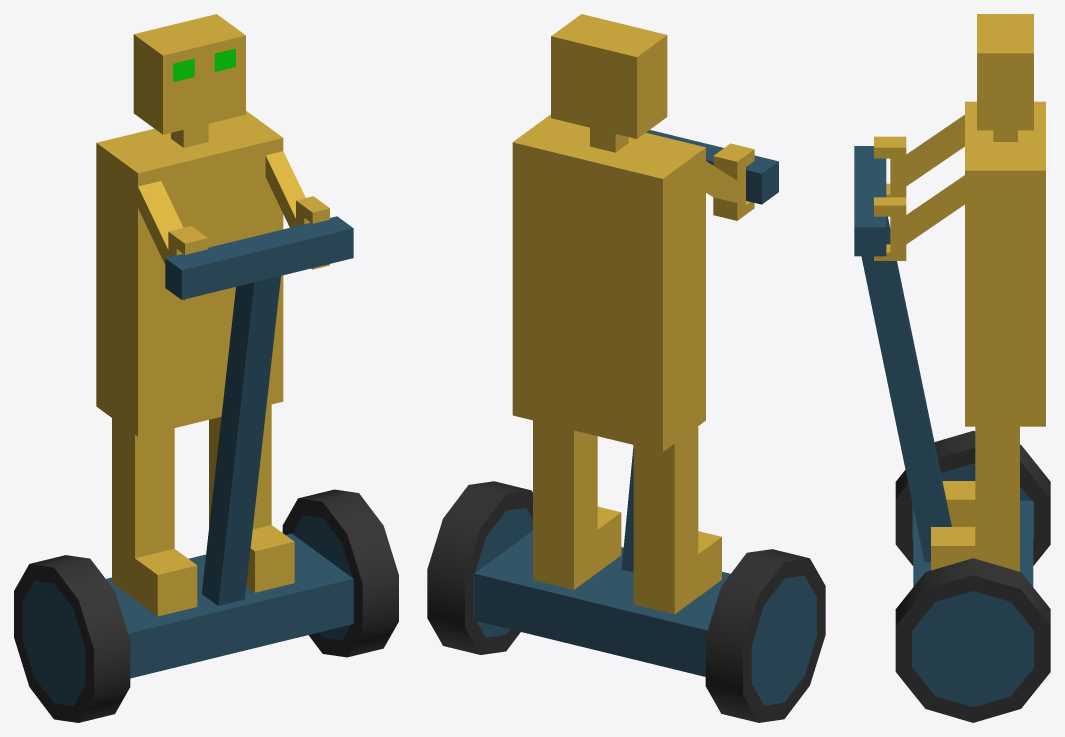
Rendered from segway_002.FBX.
The picture shows the model from 3 angles, left to right: view 1: azimuth 30°, elevation 25°; view 2: azimuth 150°, elevation 25°; view 3: azimuth 270°, elevation 25°; orthographic projection. The views are drawn at different scales.
Visible parts, largest first — view 1: SegBody, SegB, SegTire_L, SegRLeg_L, SegTire_R, SegRLeg_R; view 2: SegBody, SegB, SegTire_L, SegRLeg_L, SegRLeg_R, SegTire_R; view 3: SegBody, SegTire_R, SegB, SegRLeg_R, SegTire_L, SegRLeg_L.
Boxes of the visible parts, <box> form: SegBody: <box>96,14,329,436</box>; SegB: <box>106,216,353,678</box>; SegTire_L: <box>14,555,130,722</box>; SegRLeg_L: <box>112,418,197,616</box>; SegTire_R: <box>282,489,398,657</box>; SegRLeg_R: <box>209,404,294,592</box>; SegBody: <box>512,14,754,451</box>; SegB: <box>474,130,778,676</box>; SegTire_L: <box>705,549,825,722</box>; SegRLeg_L: <box>633,426,721,614</box>; SegRLeg_R: <box>533,420,621,589</box>; SegTire_R: <box>427,481,532,654</box>; SegBody: <box>874,14,1045,426</box>; SegTire_R: <box>895,558,1050,722</box>; SegB: <box>854,146,1033,586</box>; SegRLeg_R: <box>931,426,1019,571</box>; SegTire_L: <box>895,431,1050,565</box>; SegRLeg_L: <box>942,481,975,526</box>.
Size of the model in its own units: 16.54 by 32.91 by 9.49.
